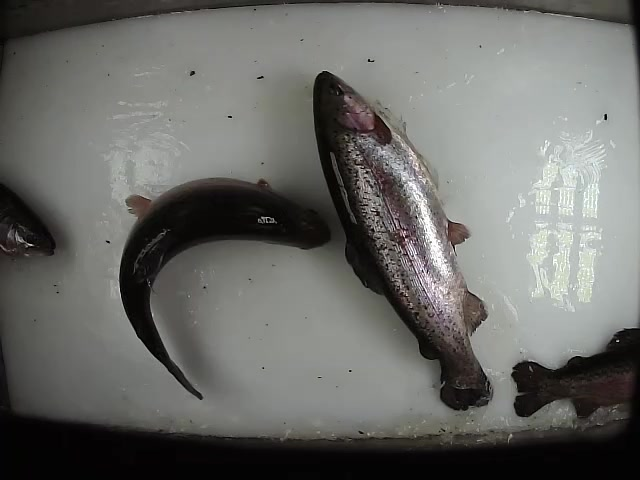fish: (308, 69, 496, 413), (113, 175, 333, 400), (510, 325, 640, 426), (1, 179, 58, 267)
